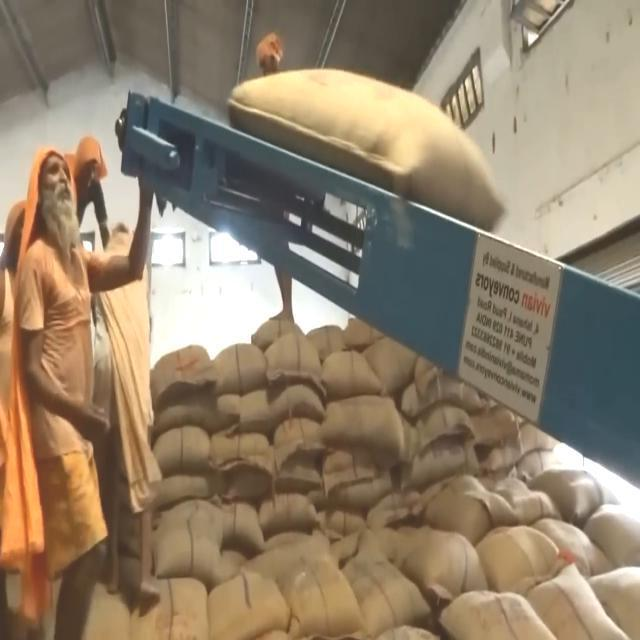gunny_bag: (230, 72, 505, 237)
